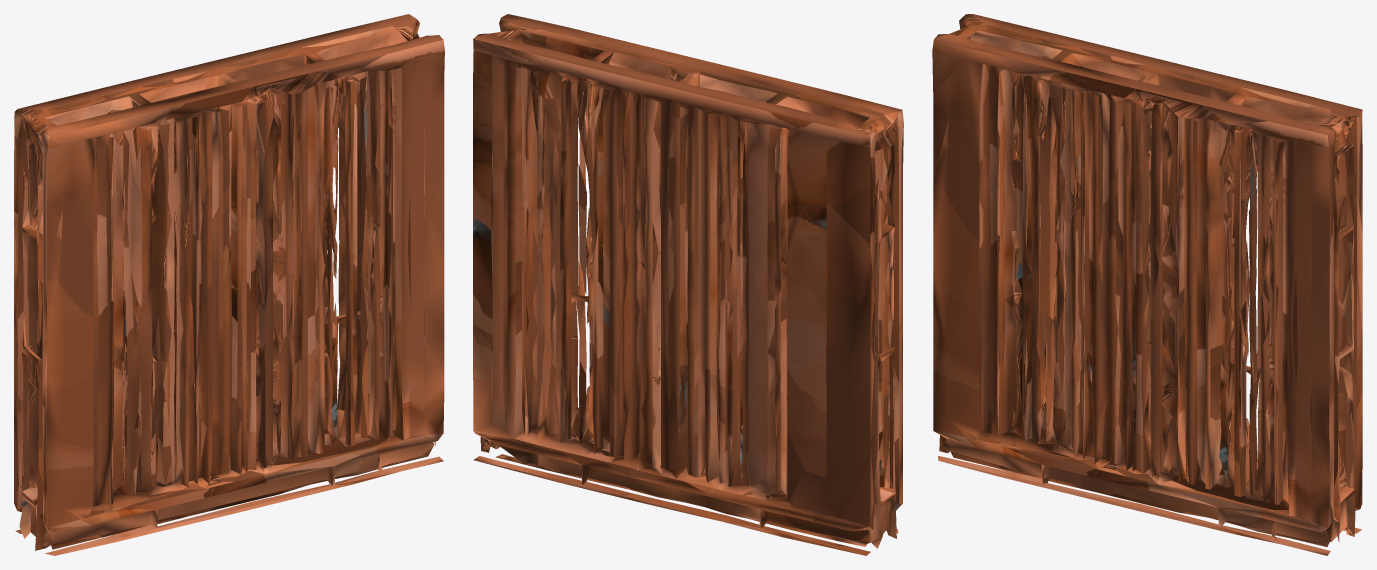
File: Env_MetalWall_4m_Repaired.fbx
The picture shows the model from 3 angles, left to right: view 1: azimuth 30°, elevation 25°; view 2: azimuth 150°, elevation 25°; view 3: azimuth 330°, elevation 25°; orthographic projection.
Parts seen in each view (by area): view 1: texture_mapping; view 2: texture_mapping; view 3: texture_mapping.
Part boxes in pixels (x1=…): texture_mapping: x1=14, y1=14, x2=444, y2=555; texture_mapping: x1=473, y1=14, x2=903, y2=555; texture_mapping: x1=932, y1=14, x2=1362, y2=555.
Bounding box in the file's own units: 99.51 × 100 × 15.62.
